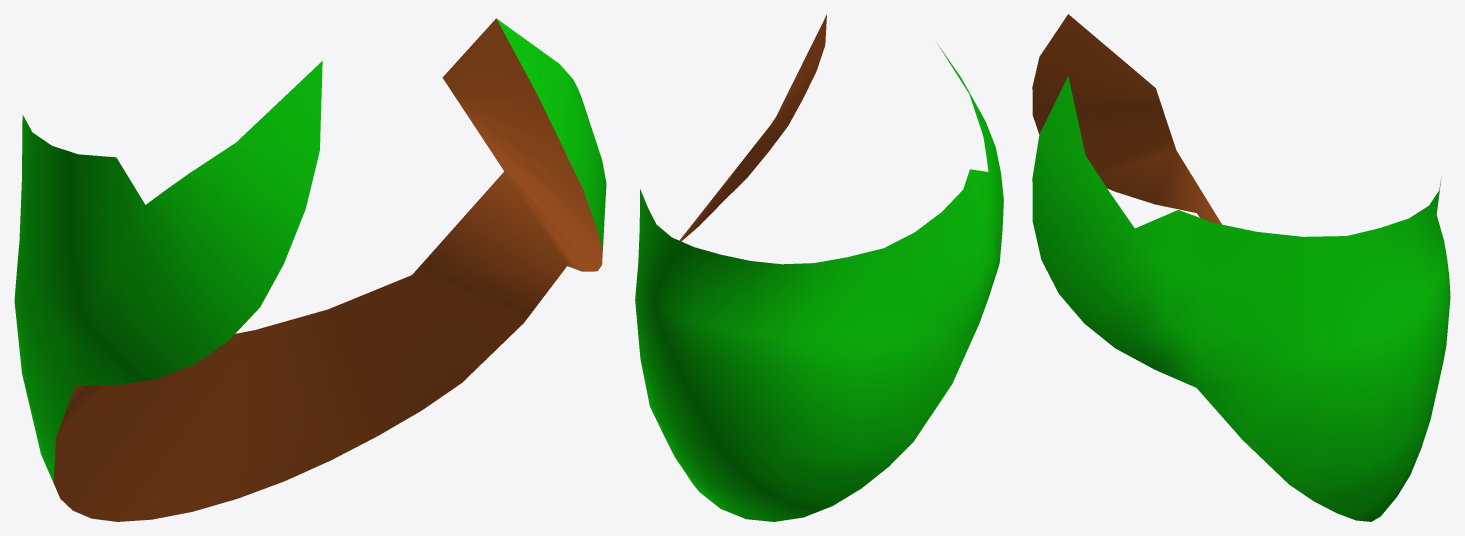
Rendered from Hair2_10.glb.
3 views of the same model, side by side, from view 1: azimuth 30°, elevation 25°; view 2: azimuth 150°, elevation 25°; view 3: azimuth 270°, elevation 25° (orthographic). The views are drawn at different scales.
Size of the model in its own units: 58.31 by 70.54 by 58.15.
